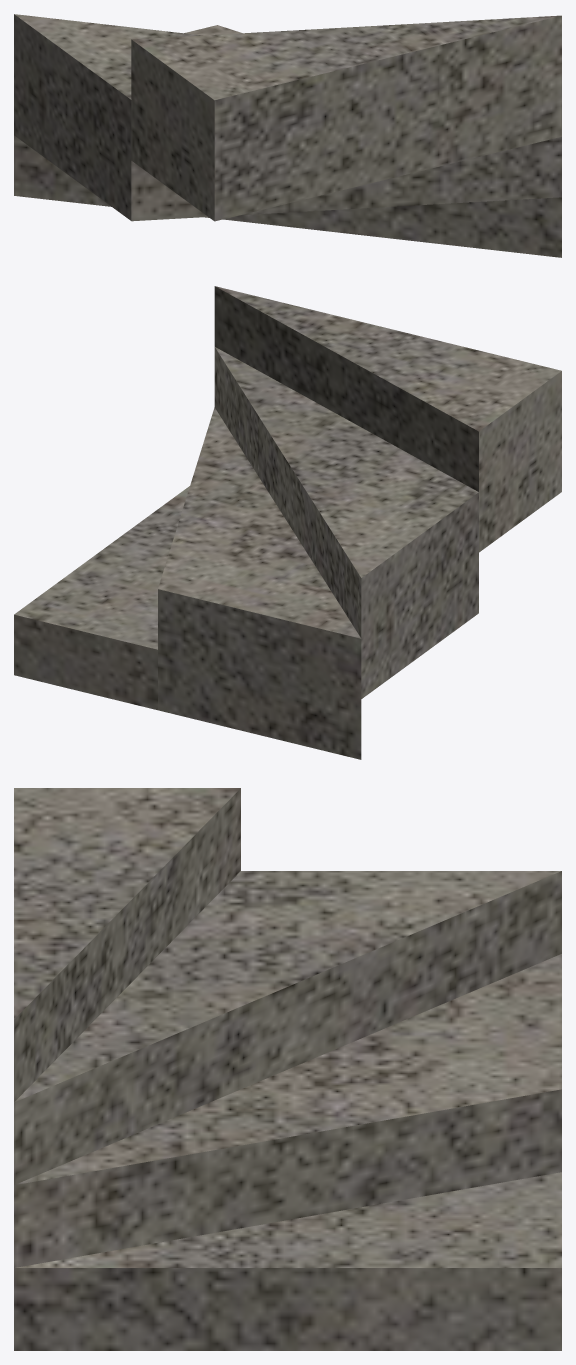
The model's file is J_SpiralStairsR1mA.obj.
The picture shows the model from 3 angles, top to bottom: view 1: azimuth 30°, elevation 25°; view 2: azimuth 150°, elevation 25°; view 3: azimuth 270°, elevation 25°; orthographic projection. The views are drawn at different scales.
Bounding box in the file's own units: 1 × 0.6667 × 1.
1 material, 1 textured.
